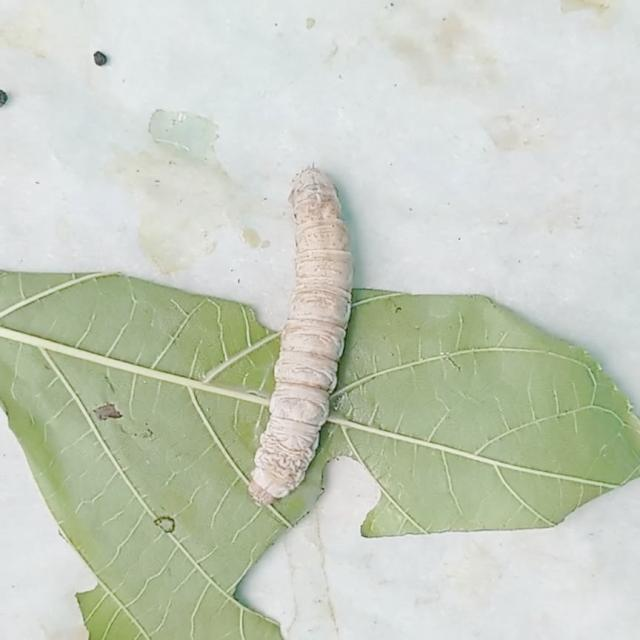Grasserie: (199, 113, 432, 534)
